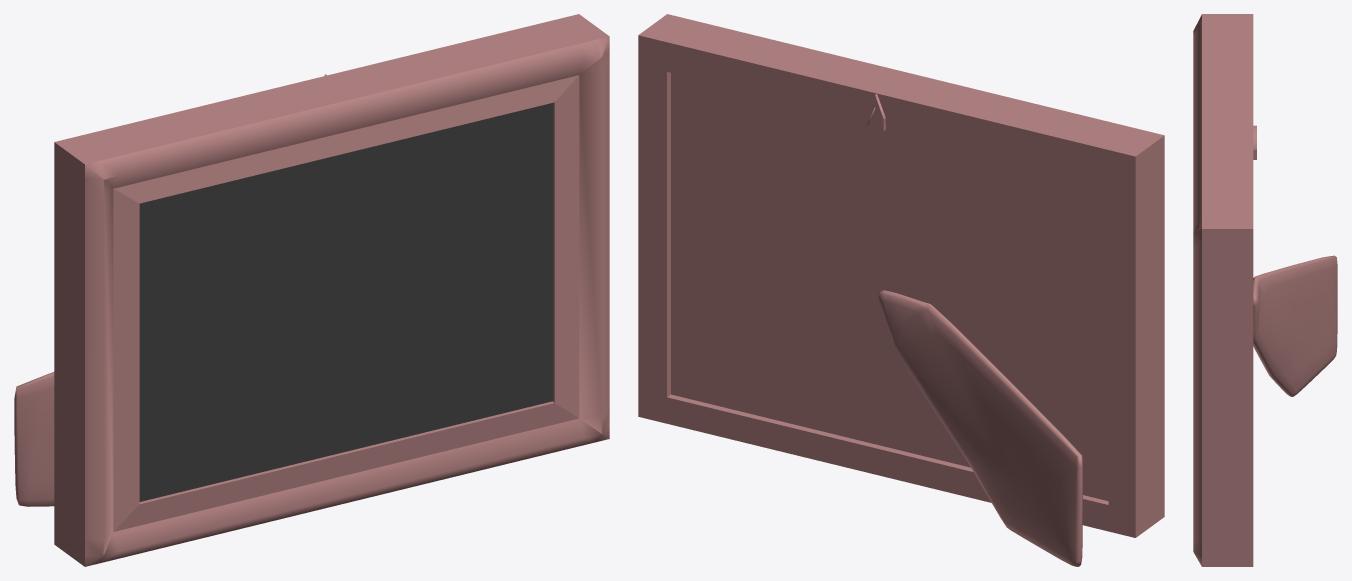
Rendered from photo_frame.glb.
The picture shows the model from 3 angles, left to right: view 1: azimuth 30°, elevation 25°; view 2: azimuth 150°, elevation 25°; view 3: azimuth 270°, elevation 25°; orthographic projection. The views are drawn at different scales.
Parts seen in each view (by area): view 1: family_photo1; view 2: family_photo1; view 3: family_photo1.
Part boxes in pixels (<box>): family_photo1: <box>14,14,609,566</box>; family_photo1: <box>638,14,1164,566</box>; family_photo1: <box>1193,14,1337,566</box>.
Size of the model in its own units: 0.3053 by 0.2244 by 0.0868.
